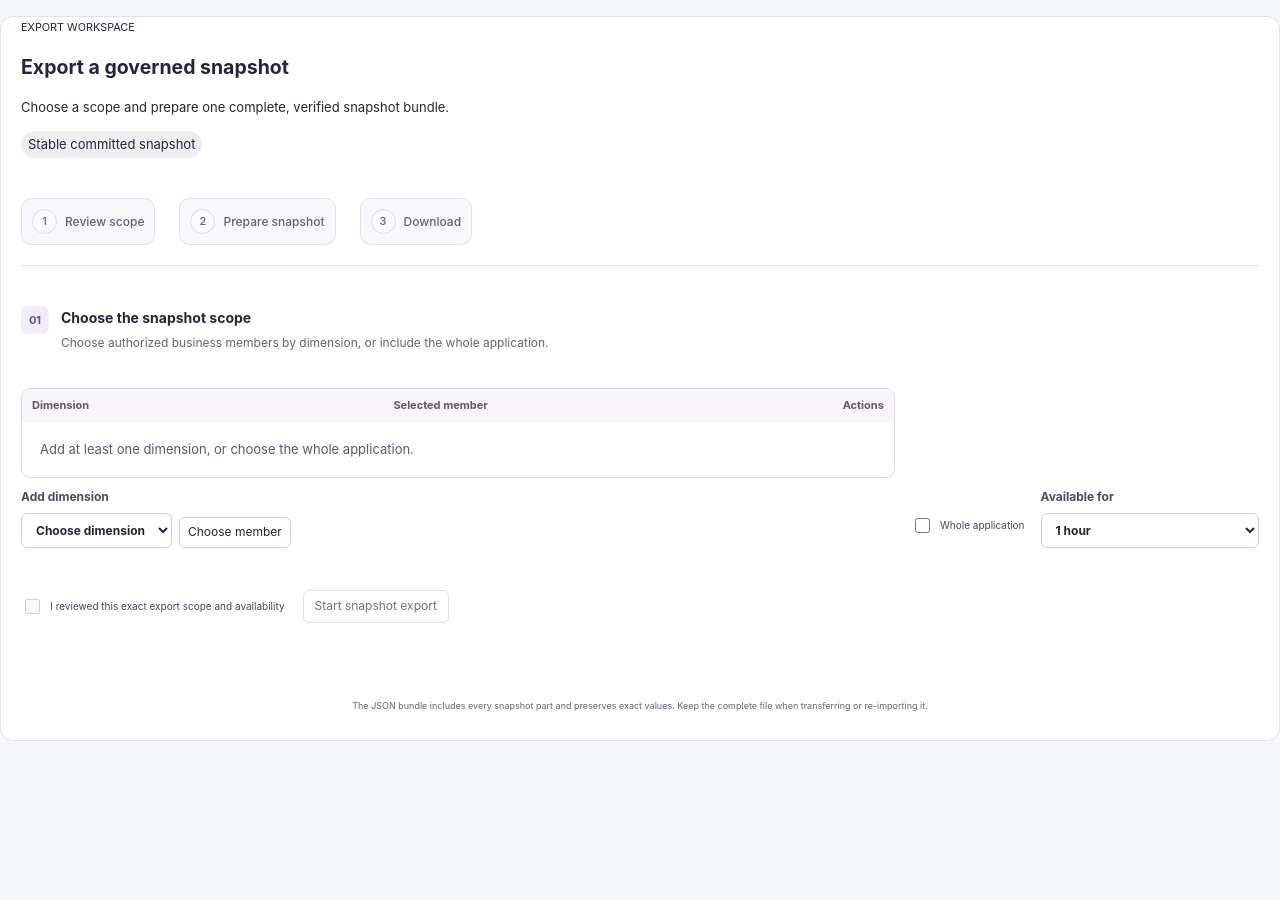
Test: uses the unchanged read and export contracts
Select "Scenario" in the dropdown labelled "Add dimension" at (96, 531), box [21,513,172,548]
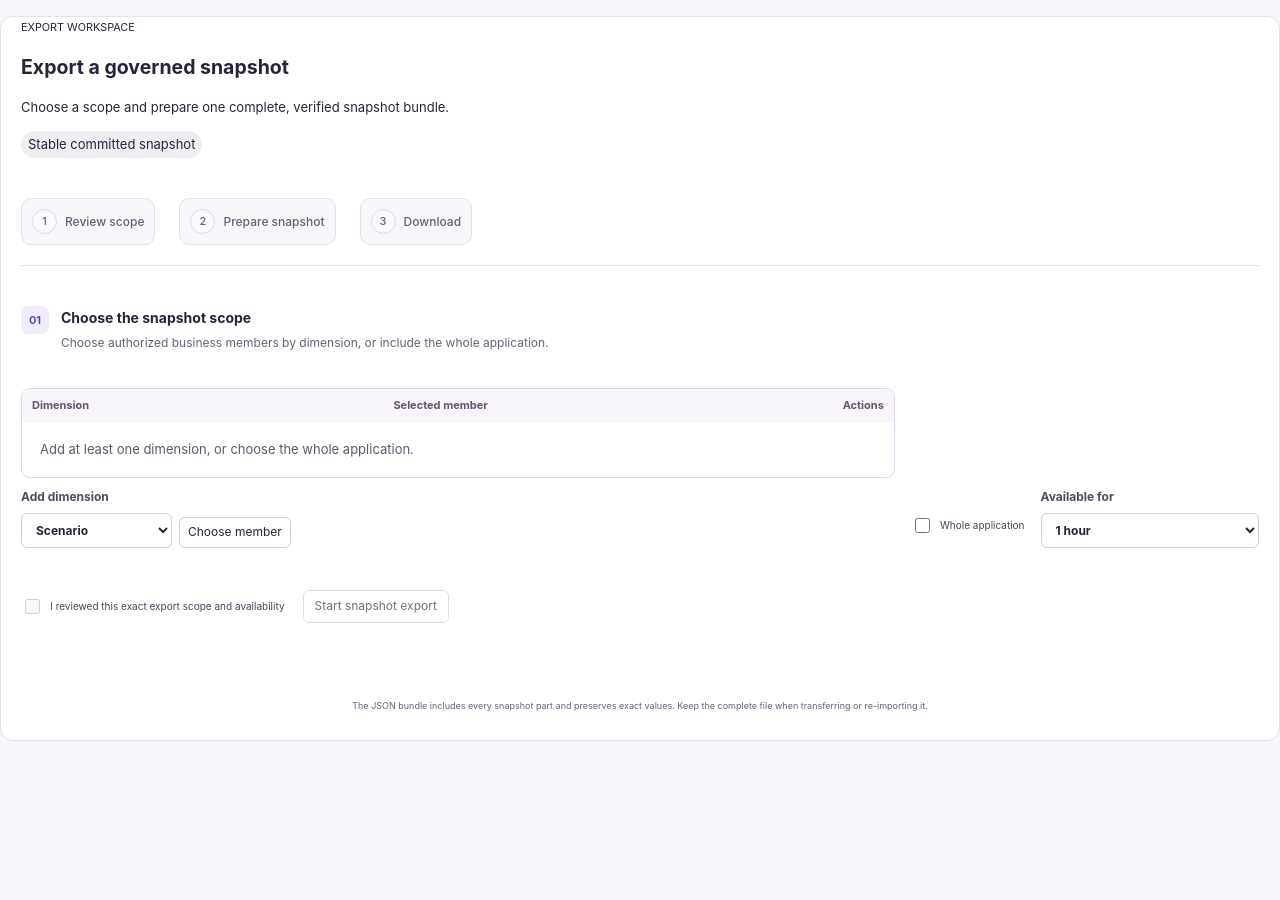
Click the button "Choose member" at (235, 533), box [179,518,291,548]
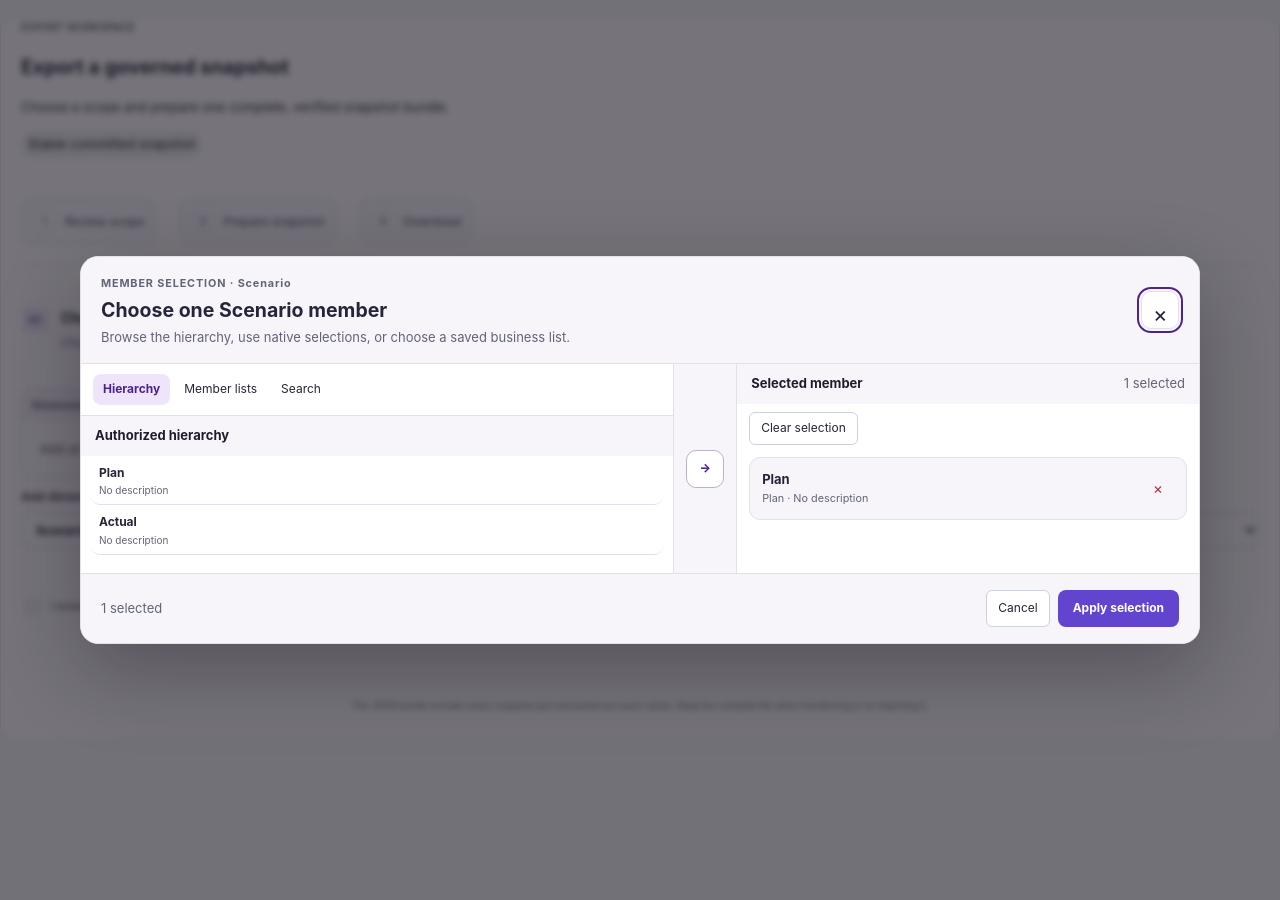
Click the button "Apply selection" at (1118, 609), box [1058,590,1179,627]
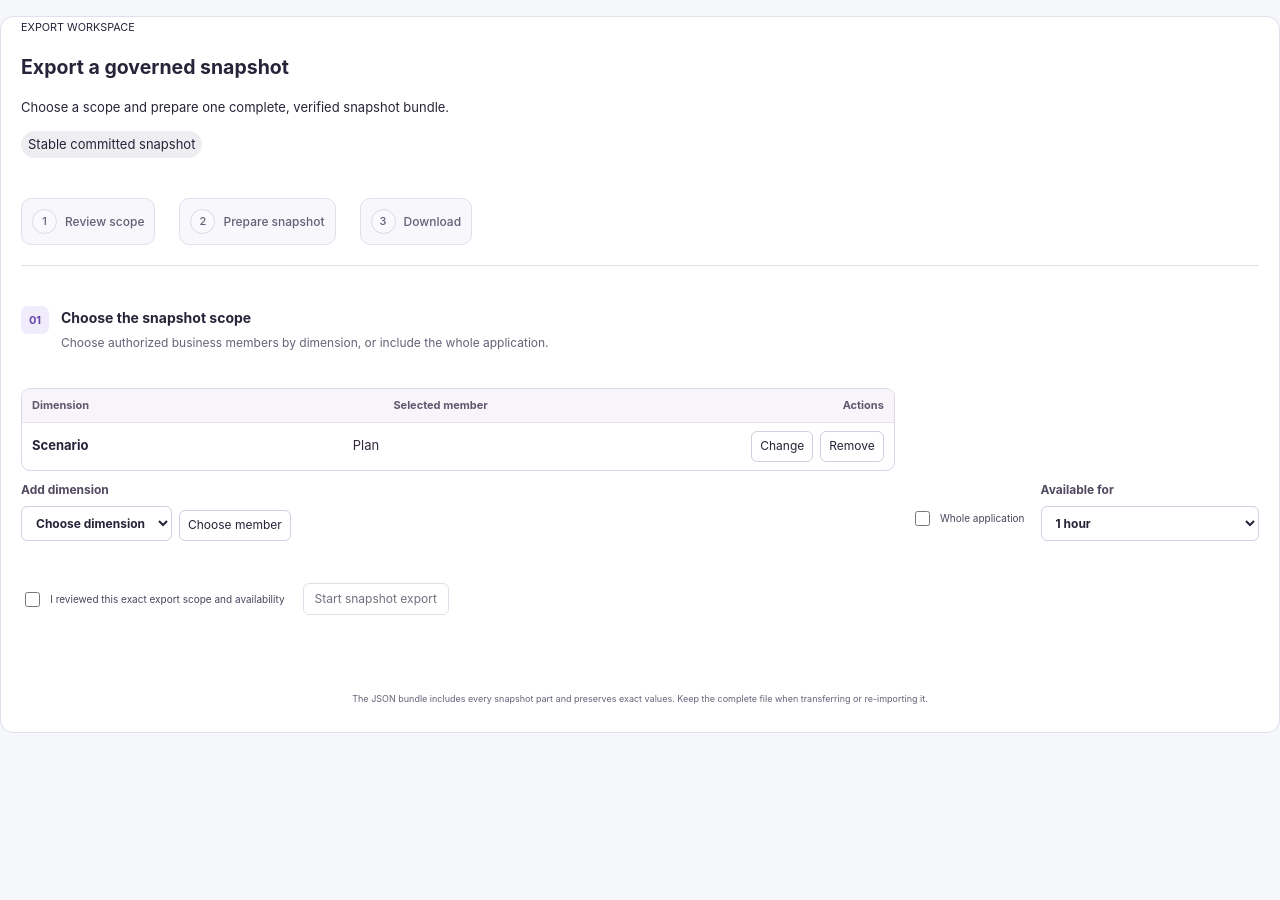
Click the checkbox labelled "I reviewed this exact export scope and availability" at (32, 599), box [25,592,40,607]
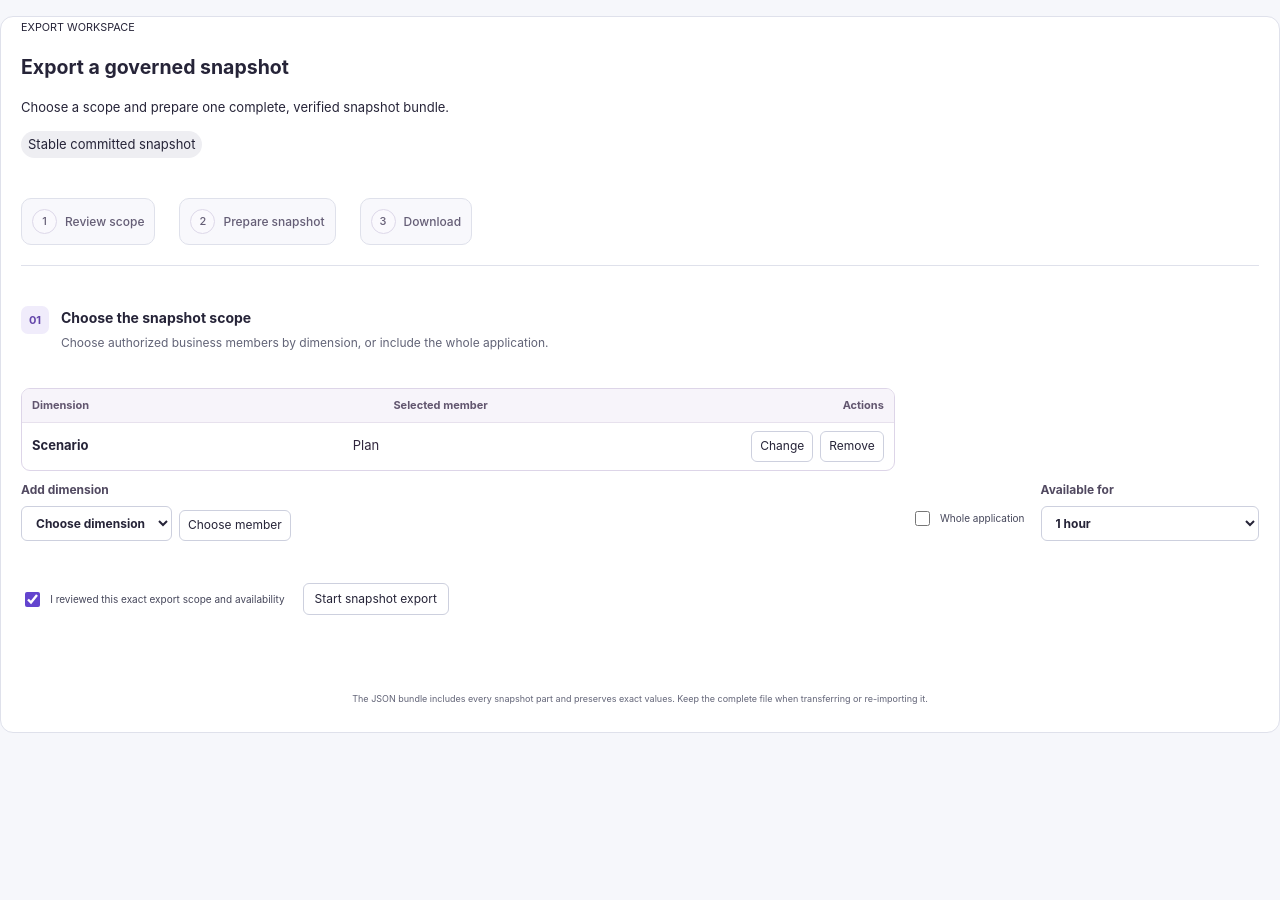
Click the button "Start snapshot export" at (376, 599), box [302,583,449,616]
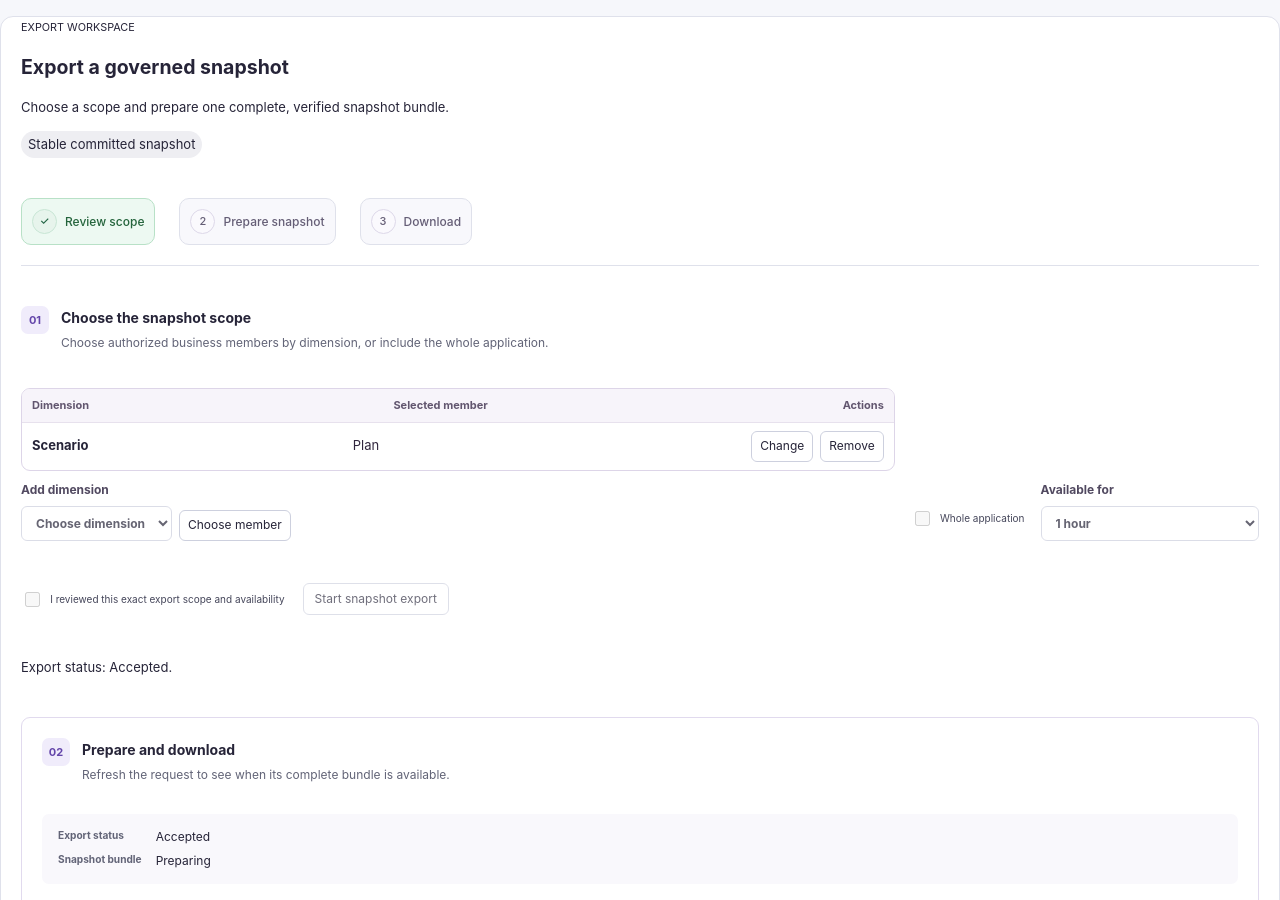
Expected: the text "Accepted" is shown, [156,829,210,844]
